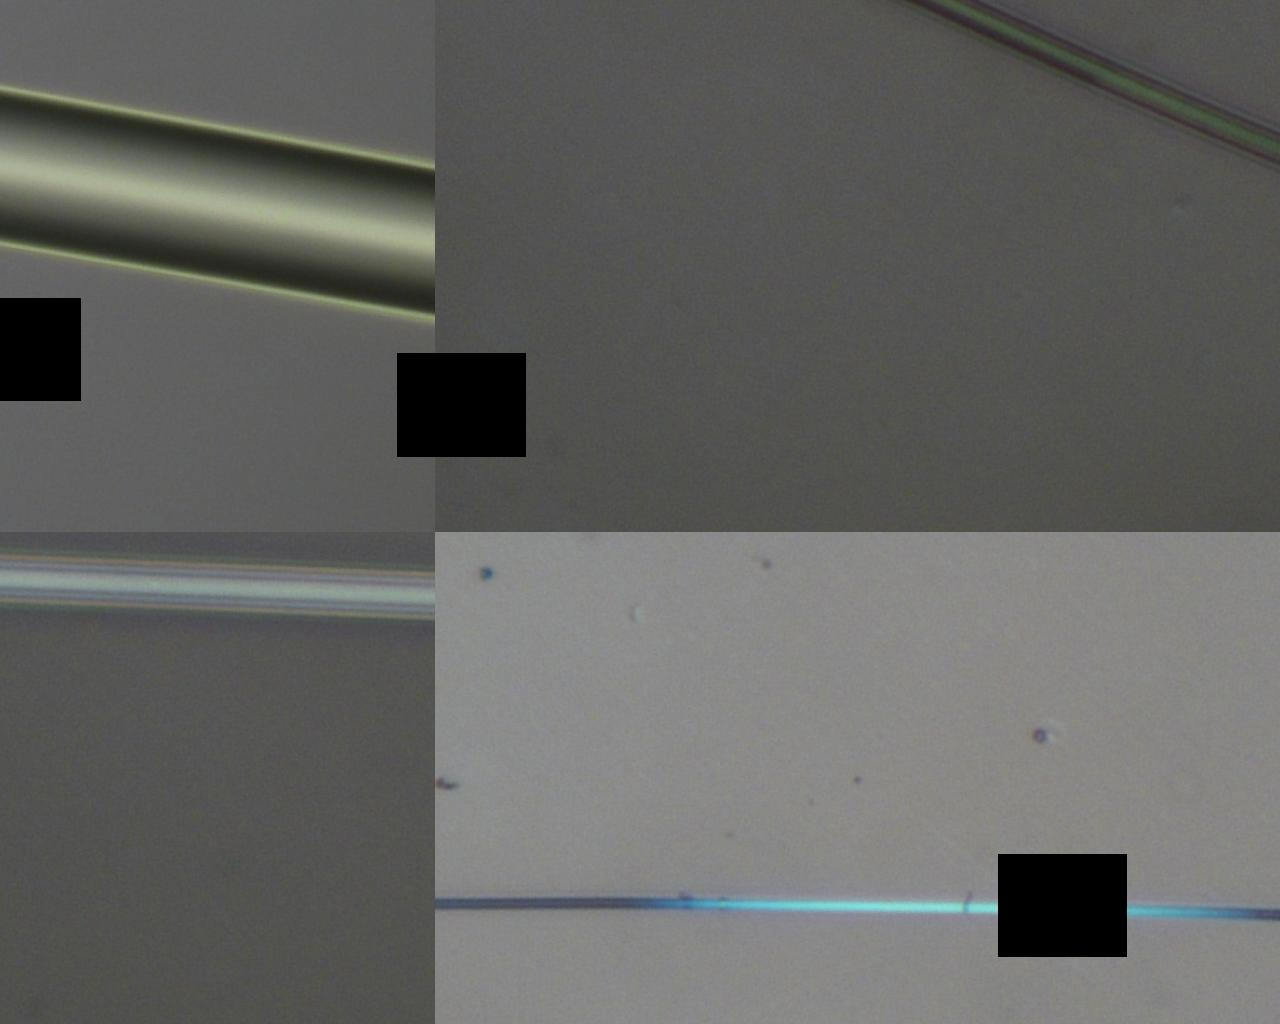fiber: (0, 604, 819, 1004), (217, 0, 323, 604)
